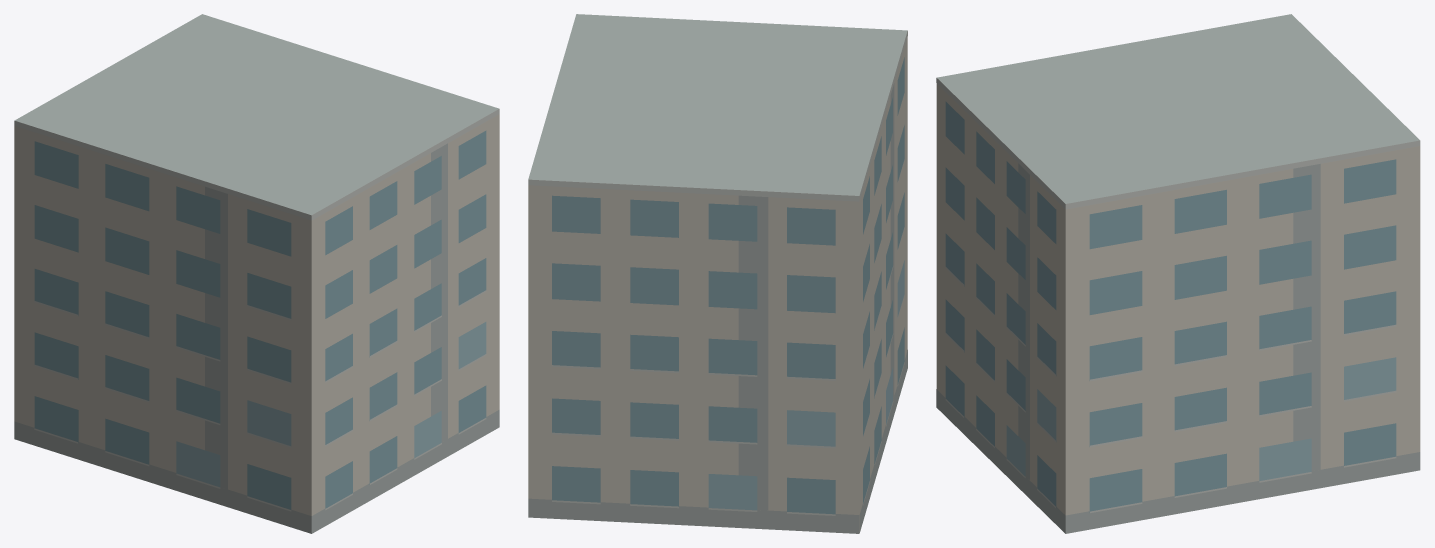
File: survey-upis-32948964.glb
3 views of the same model, side by side, from view 1: azimuth 30°, elevation 25°; view 2: azimuth 150°, elevation 25°; view 3: azimuth 270°, elevation 25° (orthographic). The views are drawn at different scales.
Visible parts, largest first — view 1: survey-upis-32948964.tmp; view 2: survey-upis-32948964.tmp; view 3: survey-upis-32948964.tmp.
Part boxes in pixels (box(x1,y1,x2,y2)): survey-upis-32948964.tmp: box(14, 14, 499, 533); survey-upis-32948964.tmp: box(528, 14, 907, 533); survey-upis-32948964.tmp: box(936, 14, 1420, 533).
Bounding box in the file's own units: 18.11 × 14.65 × 19.48.
